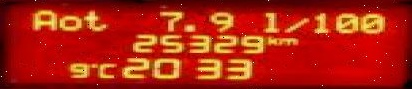-: (178, 23, 195, 32)
0: (149, 56, 179, 79), (358, 12, 385, 33), (331, 12, 358, 33)
1: (309, 10, 328, 33)
2: (119, 55, 146, 78), (127, 33, 157, 52), (211, 34, 236, 53)
3: (222, 56, 252, 79), (192, 57, 222, 78), (184, 34, 208, 53)
5: (157, 33, 184, 53)
7: (154, 10, 181, 31)
9: (206, 10, 236, 31), (238, 34, 263, 54), (65, 62, 89, 78)
X: (27, 7, 54, 30), (81, 8, 105, 32), (257, 10, 279, 33), (279, 17, 309, 33), (56, 14, 81, 30), (95, 61, 116, 79), (276, 36, 298, 45), (266, 35, 277, 45)
